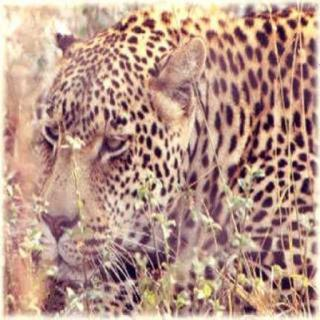Leopard: (14, 5, 320, 311)
